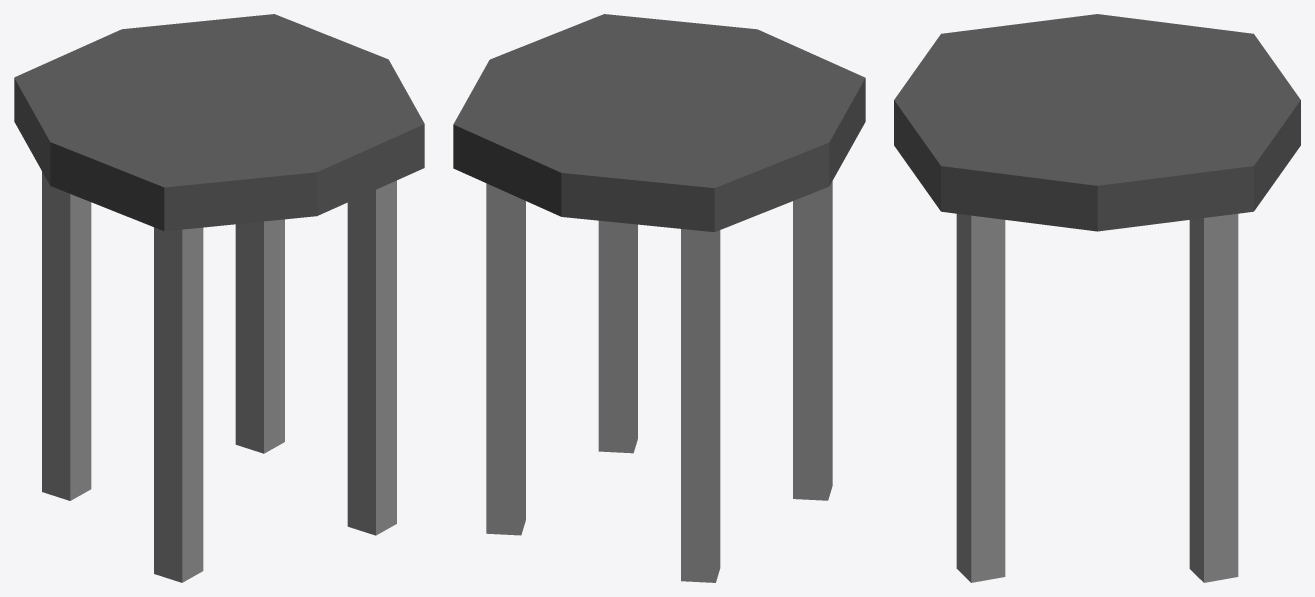
The model's file is SideTableModel.fbx.
The picture shows the model from 3 angles, left to right: view 1: azimuth 30°, elevation 25°; view 2: azimuth 150°, elevation 25°; view 3: azimuth 270°, elevation 25°; orthographic projection. The views are drawn at different scales.
Parts seen in each view (by area): view 1: SideTableModel; view 2: SideTableModel; view 3: SideTableModel.
Boxes of the visible parts, x1,y1,x2,y2 form: SideTableModel: (14, 14, 424, 582); SideTableModel: (453, 14, 865, 582); SideTableModel: (894, 14, 1300, 582).
Size of the model in its own units: 78 by 89.66 by 78.
